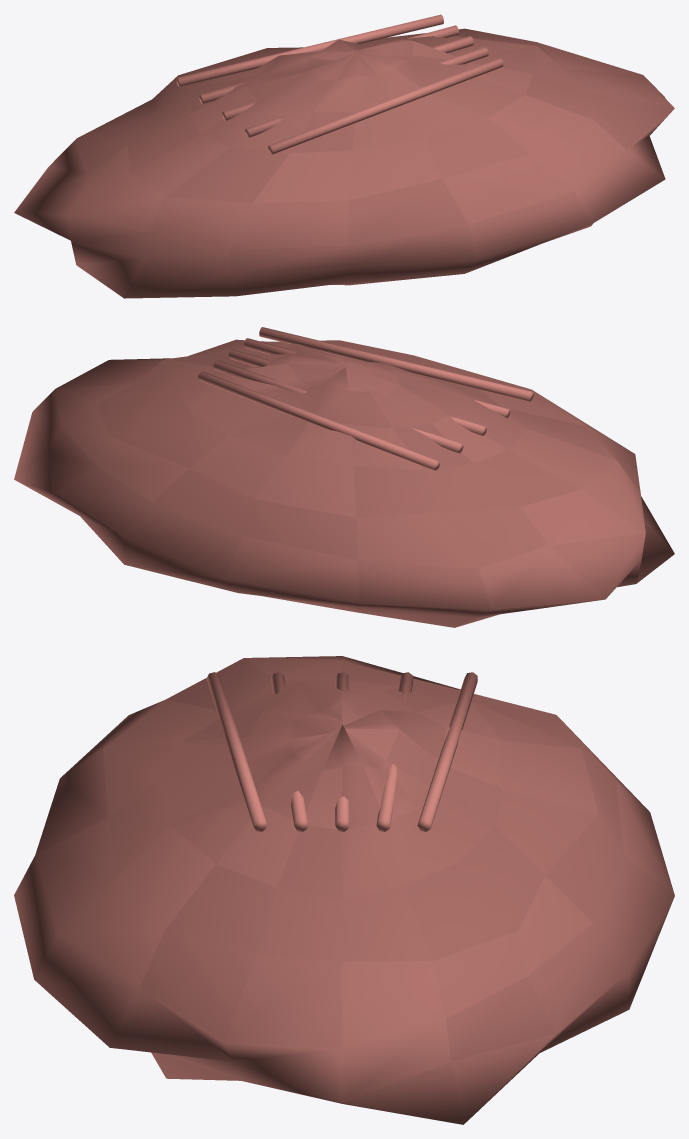
Rendered from Veal.glb.
3 views of the same model, one above another, from view 1: azimuth 30°, elevation 25°; view 2: azimuth 150°, elevation 25°; view 3: azimuth 270°, elevation 25° (orthographic). The views are drawn at different scales.
Visible parts, largest first — view 1: Veal; view 2: Veal; view 3: Veal.
Boxes of the visible parts, x1,y1,x2,y2 form: Veal: [14, 14, 674, 298]; Veal: [14, 327, 674, 627]; Veal: [14, 656, 674, 1124].
Size of what is drawn, in the model's own units: 0.1666 by 0.0499 by 0.1127.
